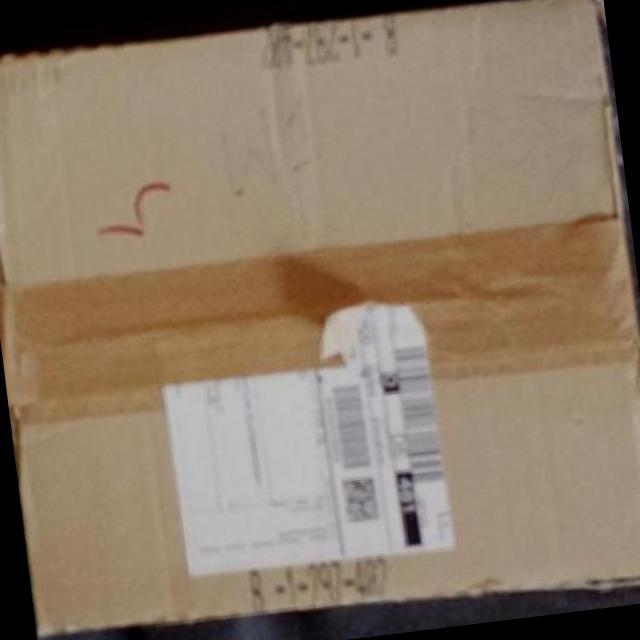box: (1, 1, 640, 639)
